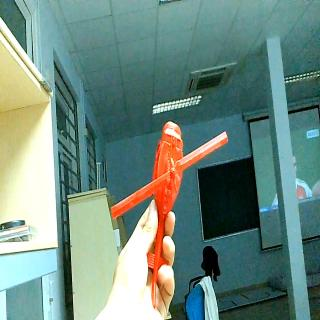Helicopter: (110, 119, 229, 310)
